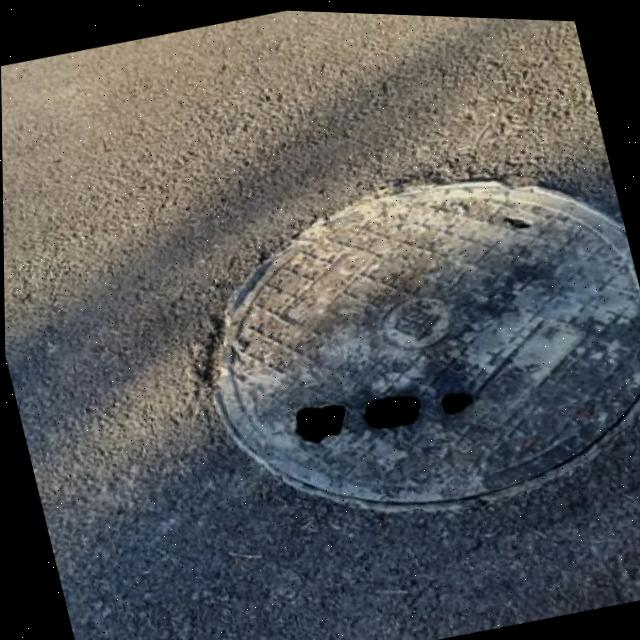manhole: (167, 119, 640, 552)
